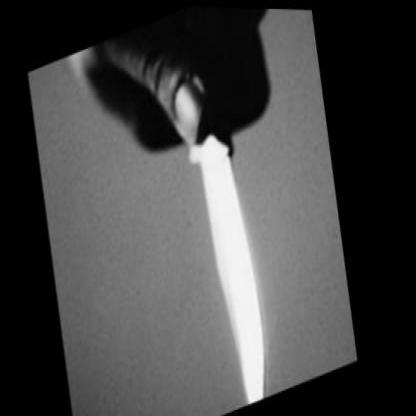knife: (135, 3, 353, 413)
